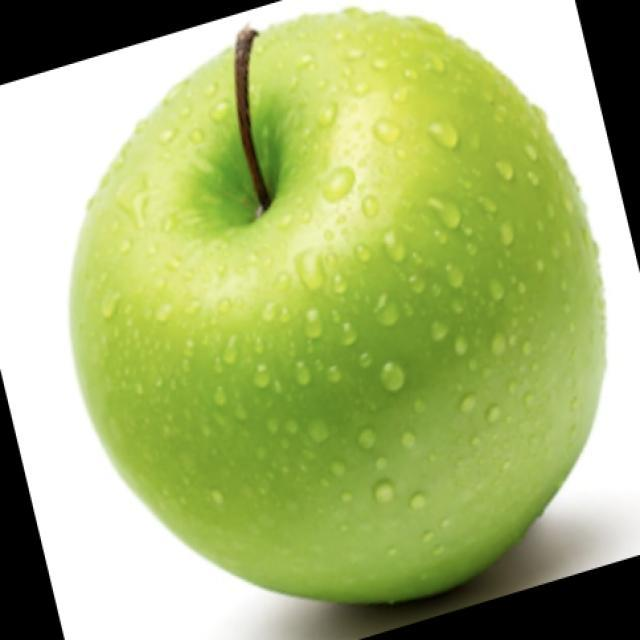Fresh Apple: (78, 25, 617, 605)
